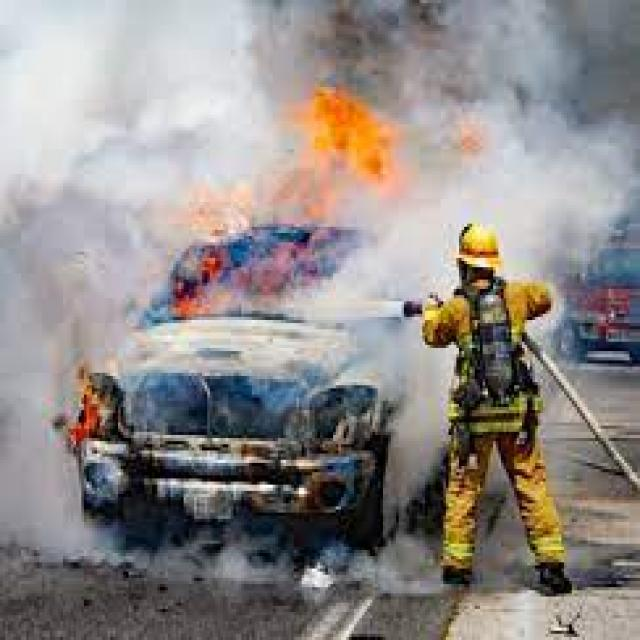fire: (244, 3, 635, 230), (3, 202, 160, 572), (294, 242, 443, 538), (102, 525, 302, 597), (299, 540, 443, 596)
smoke: (283, 78, 396, 186)
